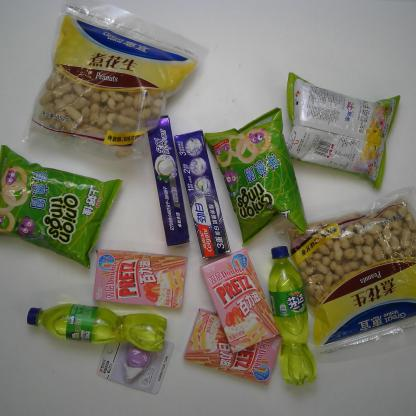Dessert: (198, 245, 282, 358), (182, 306, 286, 388), (89, 249, 189, 313)
Dried Food: (20, 6, 210, 166), (276, 185, 416, 360)
Drink: (23, 302, 172, 354), (266, 240, 318, 388)
Personal Hygiene: (173, 128, 232, 261), (146, 114, 191, 250)
Puffed Food: (1, 141, 125, 275), (276, 68, 403, 191), (202, 106, 308, 245)
Stationery: (88, 335, 178, 395)
